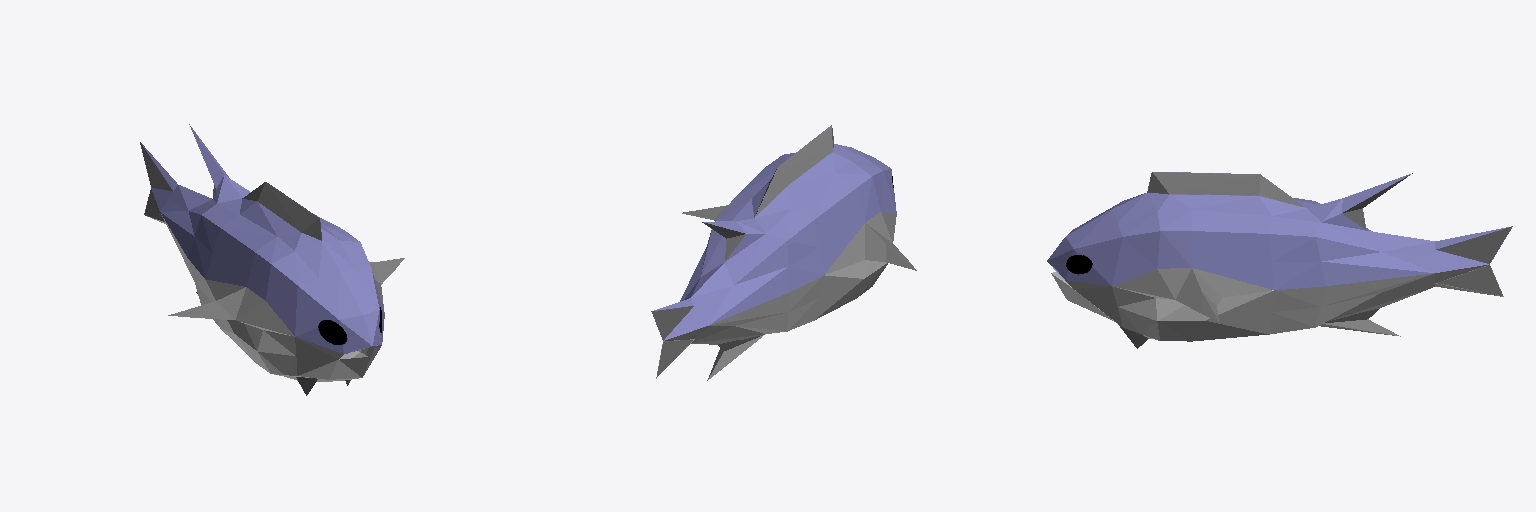
3 renders of one model, left to right at view 1: azimuth 30°, elevation 25°; view 2: azimuth 150°, elevation 25°; view 3: azimuth 270°, elevation 25°, orthographic.
Parts seen in each view (by area): view 1: Cube; view 2: Cube; view 3: Cube.
Boxes of the visible parts, box(x1,y1,x2,y2) form: Cube: box(140, 124, 404, 395); Cube: box(651, 125, 916, 380); Cube: box(1047, 172, 1512, 348).
Size of the model in its own units: 2.74 by 1.86 by 4.66.
Materials: 1 (1 with a texture image).